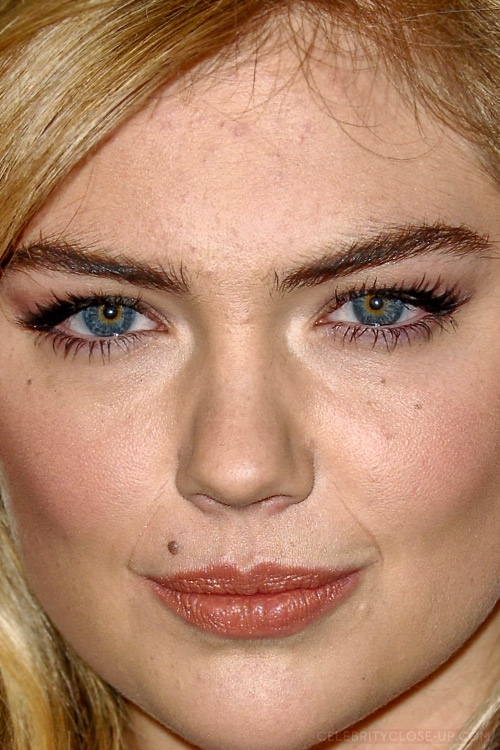jerawat: (240, 309, 253, 322), (293, 134, 306, 146), (210, 146, 222, 157), (304, 435, 315, 446), (216, 120, 227, 129), (270, 150, 280, 158)
